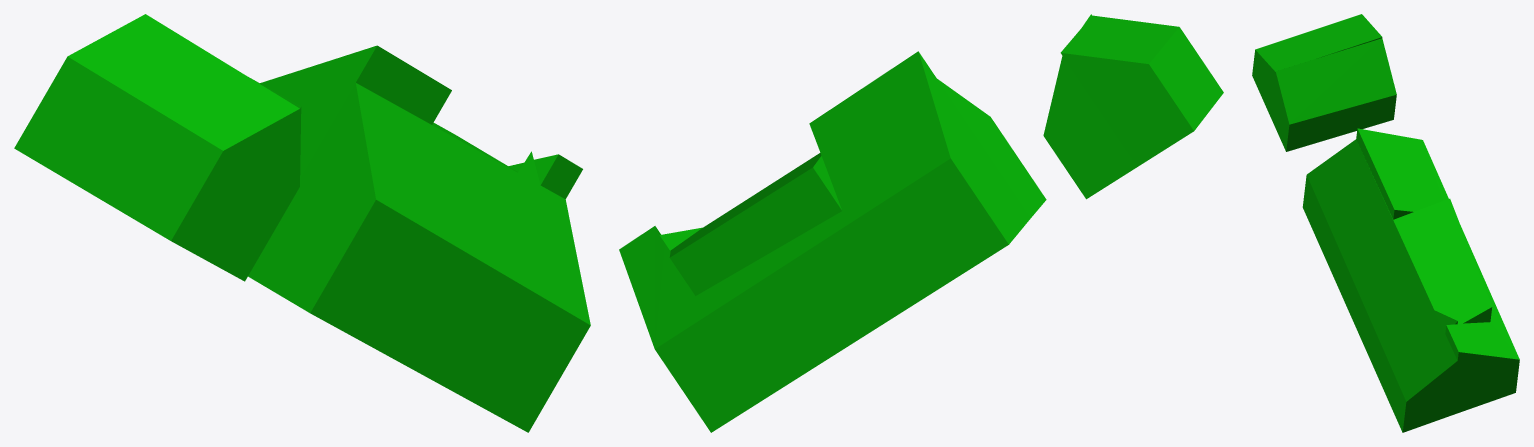
3 views of the same model, side by side, from view 1: azimuth 30°, elevation 25°; view 2: azimuth 150°, elevation 25°; view 3: azimuth 270°, elevation 25° (orthographic). The views are drawn at different scales.
Visible parts, largest first — view 1: mesh; view 2: mesh; view 3: mesh.
Part boxes in pixels (x1,y1,x2,y2): mesh: (14,14,590,432); mesh: (619,14,1223,432); mesh: (1252,14,1519,432).
Size of the model in its own units: 16.65 by 12.77 by 10.72.
